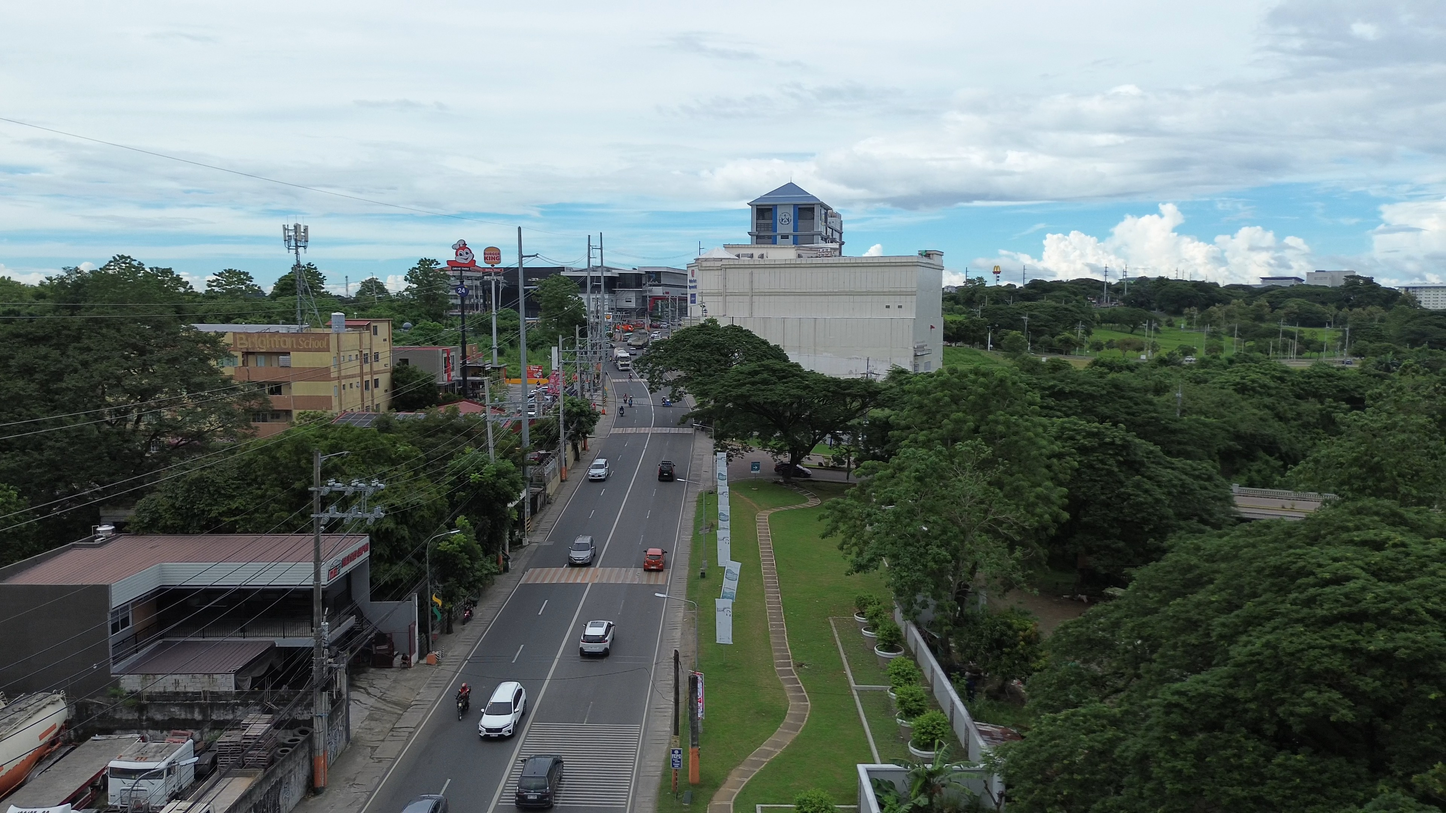car: (478, 681, 526, 737), (514, 754, 563, 808), (579, 621, 615, 656), (567, 535, 596, 565), (402, 795, 447, 813), (774, 461, 811, 478)
motorcycle: (456, 696, 469, 720), (462, 607, 473, 625)
truck: (613, 348, 631, 370)
vehicle: (0, 692, 68, 796), (107, 738, 197, 809), (642, 548, 666, 571), (587, 458, 610, 481), (658, 460, 676, 481), (650, 331, 663, 340)
